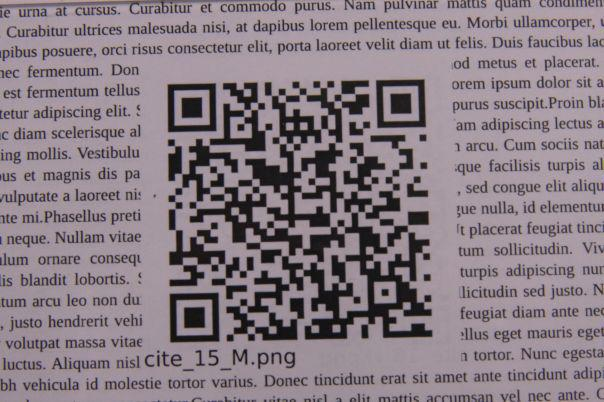Finder pattern: (166, 291, 222, 346), (165, 81, 221, 135), (374, 77, 431, 128)
